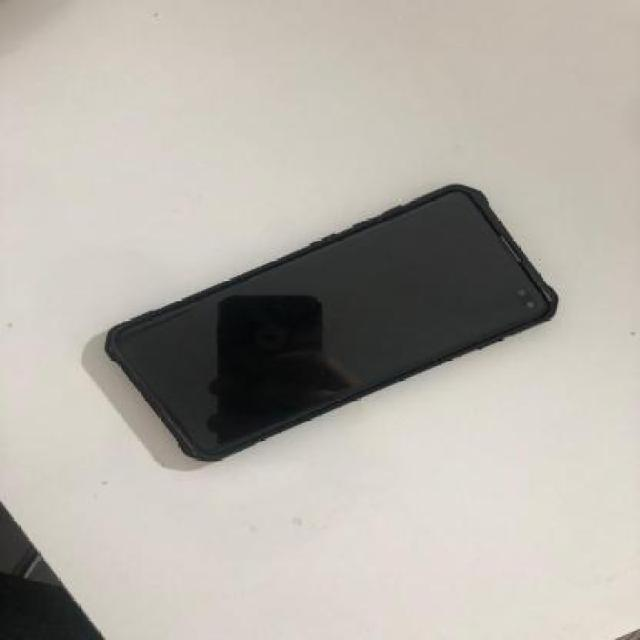phone: (104, 179, 560, 467)
